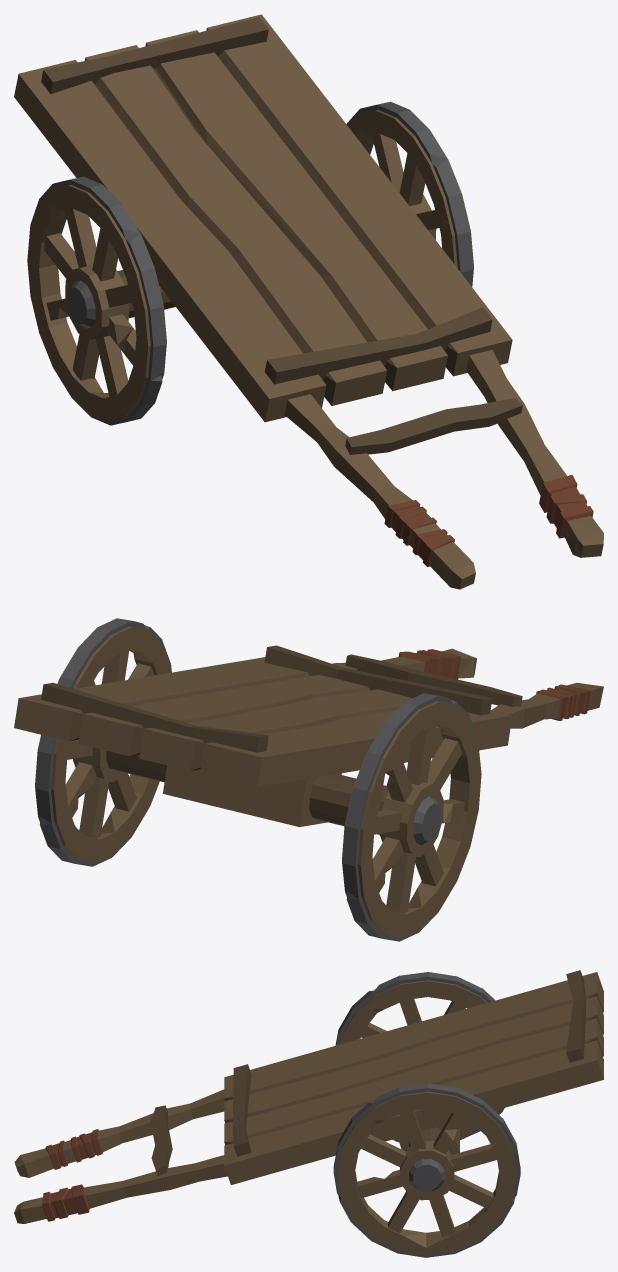
The model's file is Carretilla.glb.
3 views of the same model, one above another, from view 1: azimuth 30°, elevation 25°; view 2: azimuth 150°, elevation 25°; view 3: azimuth 270°, elevation 25° (orthographic). The views are drawn at different scales.
Visible parts, largest first — view 1: SM_Prop_Wagon_01; view 2: SM_Prop_Wagon_01; view 3: SM_Prop_Wagon_01.
Boxes of the visible parts, left/top/right/bottom form: SM_Prop_Wagon_01: left=14, top=14, right=603, bottom=589; SM_Prop_Wagon_01: left=14, top=618, right=603, bottom=941; SM_Prop_Wagon_01: left=14, top=970, right=603, bottom=1257.
Bounding box in the file's own units: 1.52 × 1.08 × 3.02.
1 material, 1 textured.
